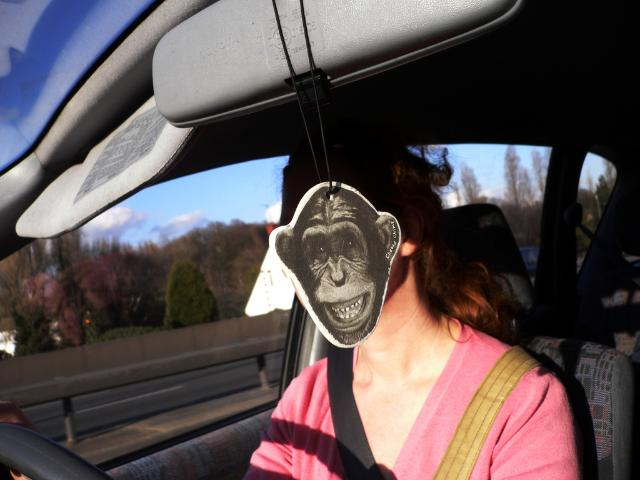Seatbelt: (330, 344, 380, 480)
